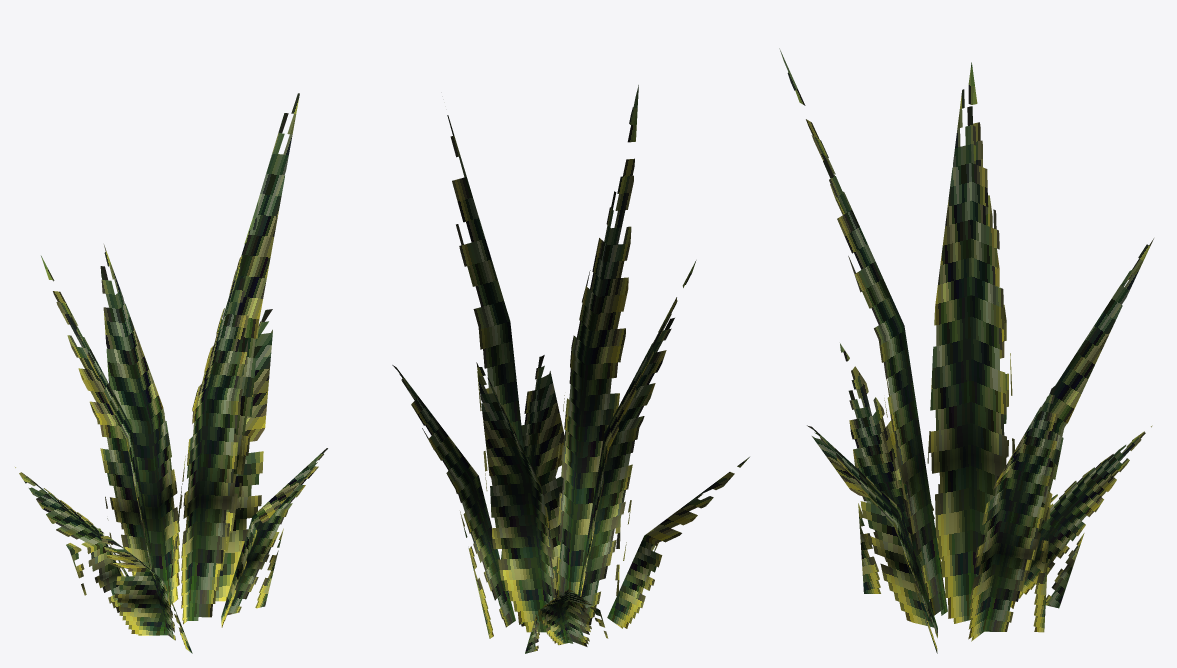
The model's file is Pplant3Z.obj.
The picture shows the model from 3 angles, left to right: view 1: azimuth 30°, elevation 25°; view 2: azimuth 150°, elevation 25°; view 3: azimuth 270°, elevation 25°; orthographic projection. The views are drawn at different scales.
Size of the model in its own units: 2748 by 5346 by 2746.
Materials: 1 (1 with a texture image).
